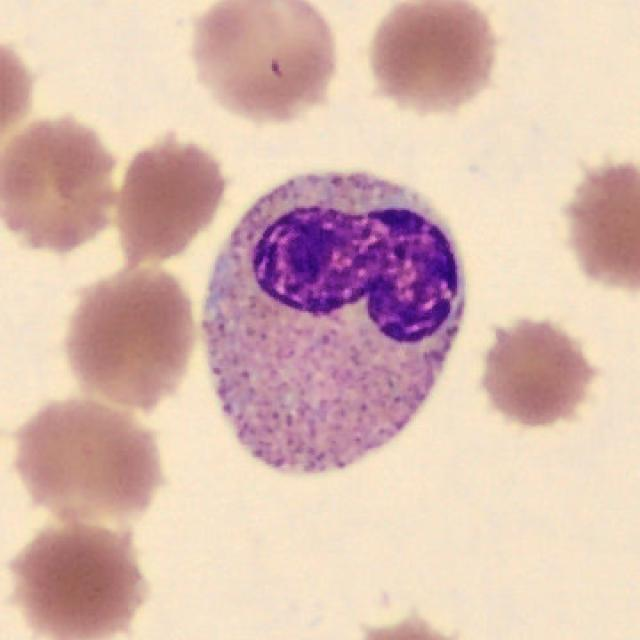Metamielocito: (199, 171, 466, 475)
